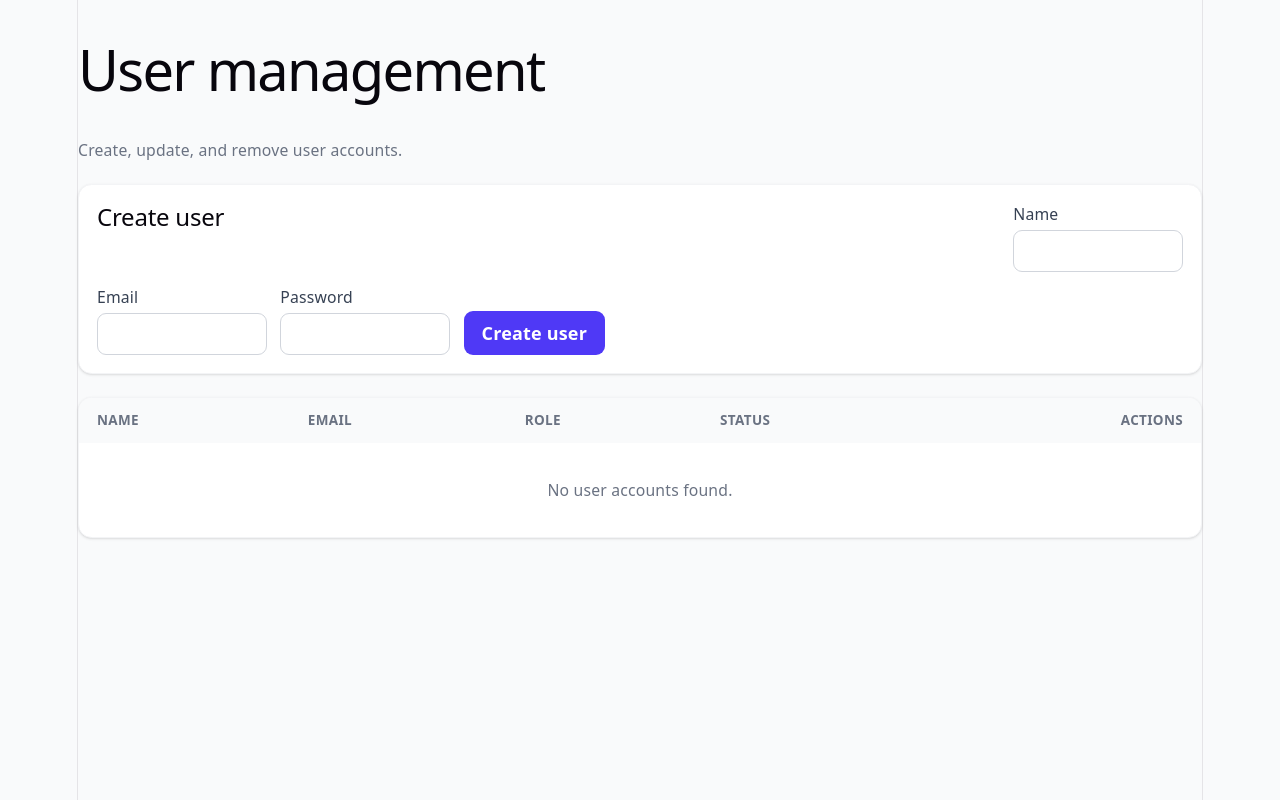
Test: UserManagement › creates users and reloads the table
Expected: the text "No user accounts found." is shown, [79, 443, 1201, 537]
Type "New Person" into the field labelled "Name" at (1098, 251), box [1013, 230, 1183, 272]
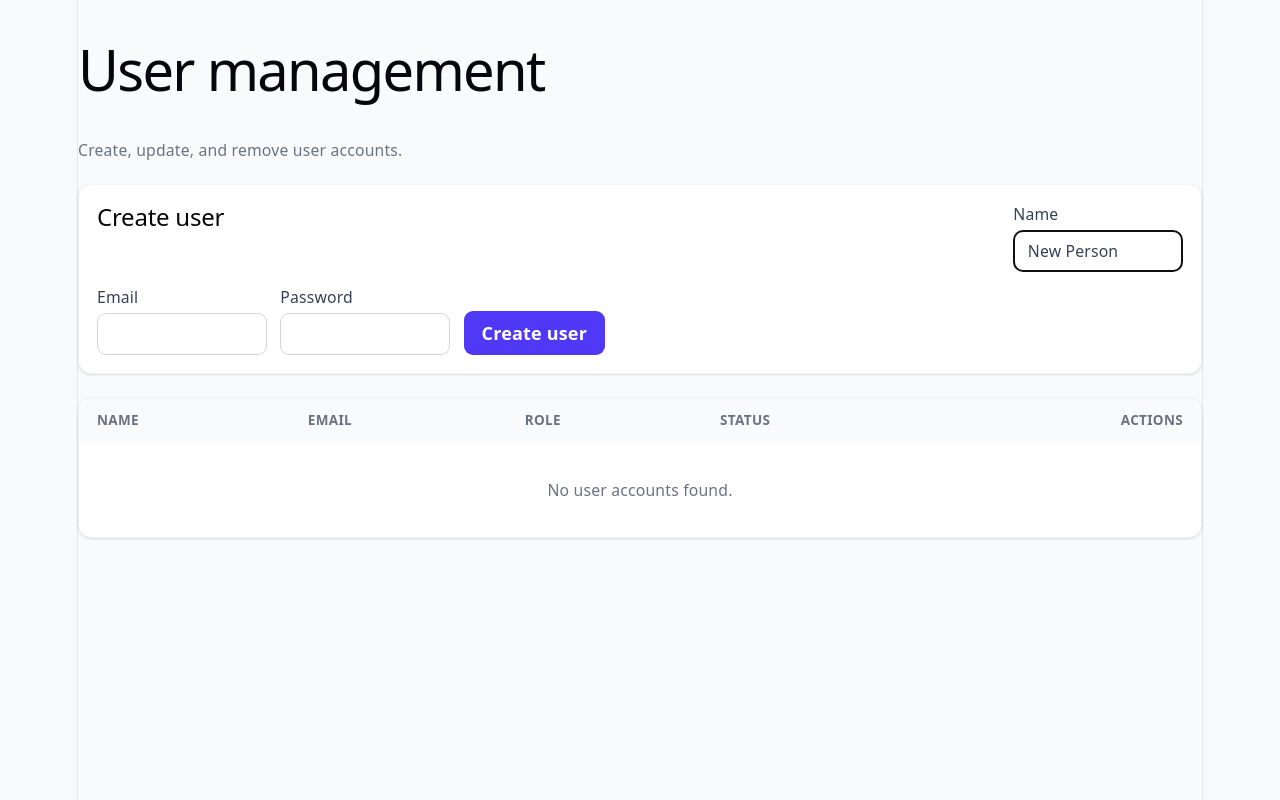
Type "new@example.com" into the field labelled "Email" at (182, 334), box [97, 313, 267, 355]
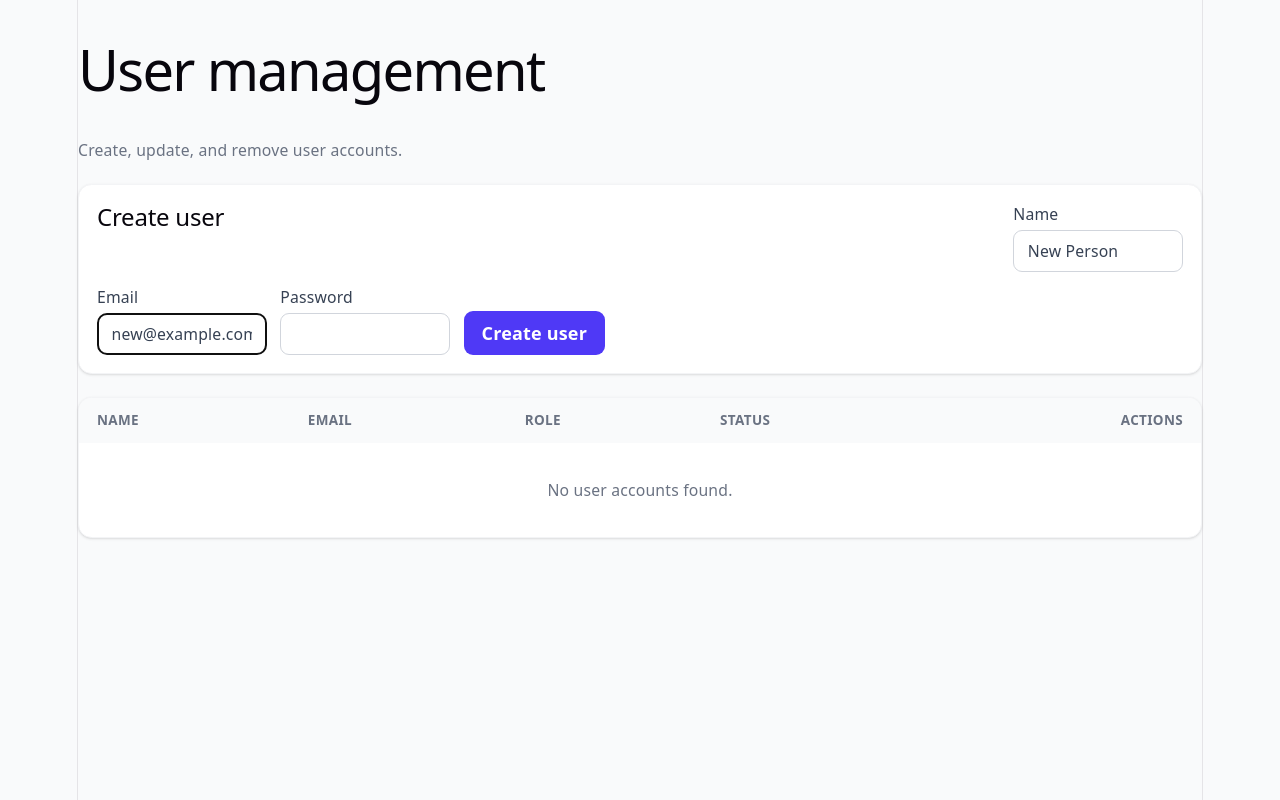
Type "password123" into the password field labelled "Password" at (365, 334), box [280, 313, 450, 355]
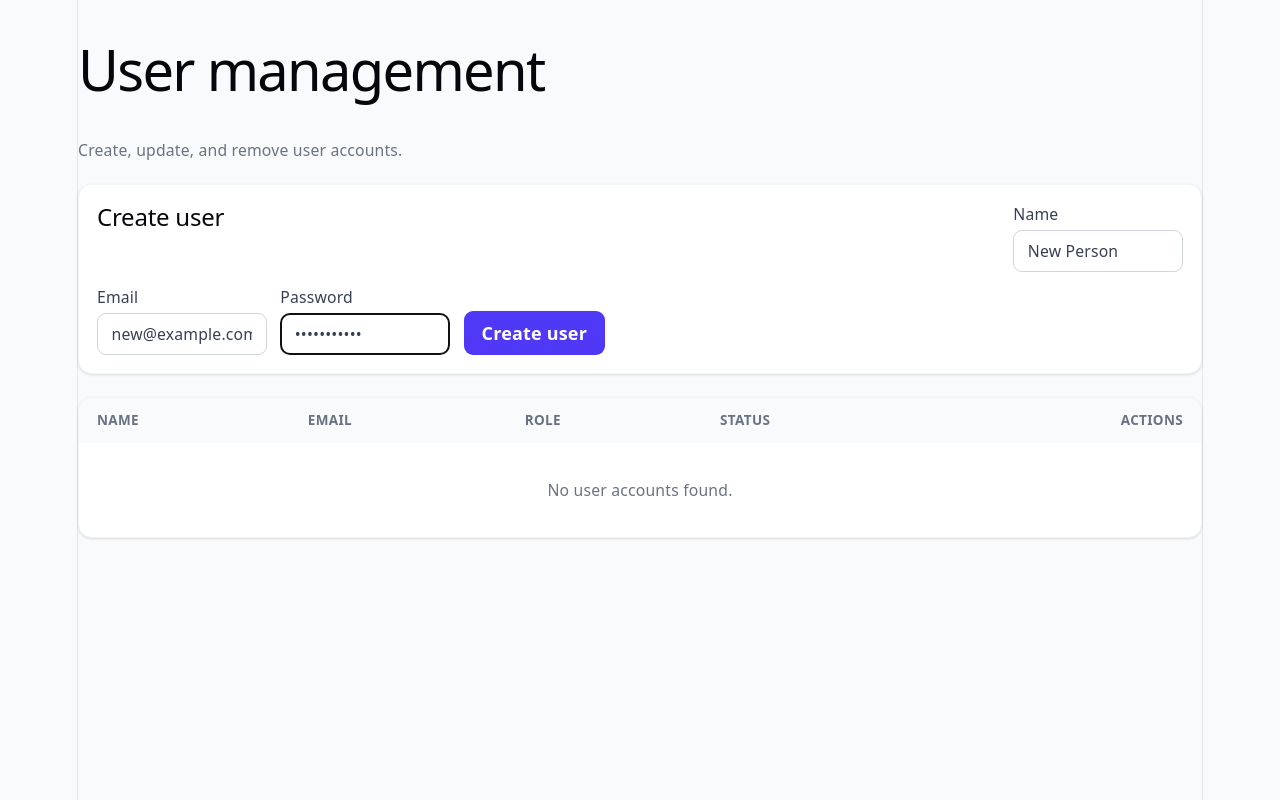
Click the button "Create user" at (534, 333), box [464, 311, 605, 355]
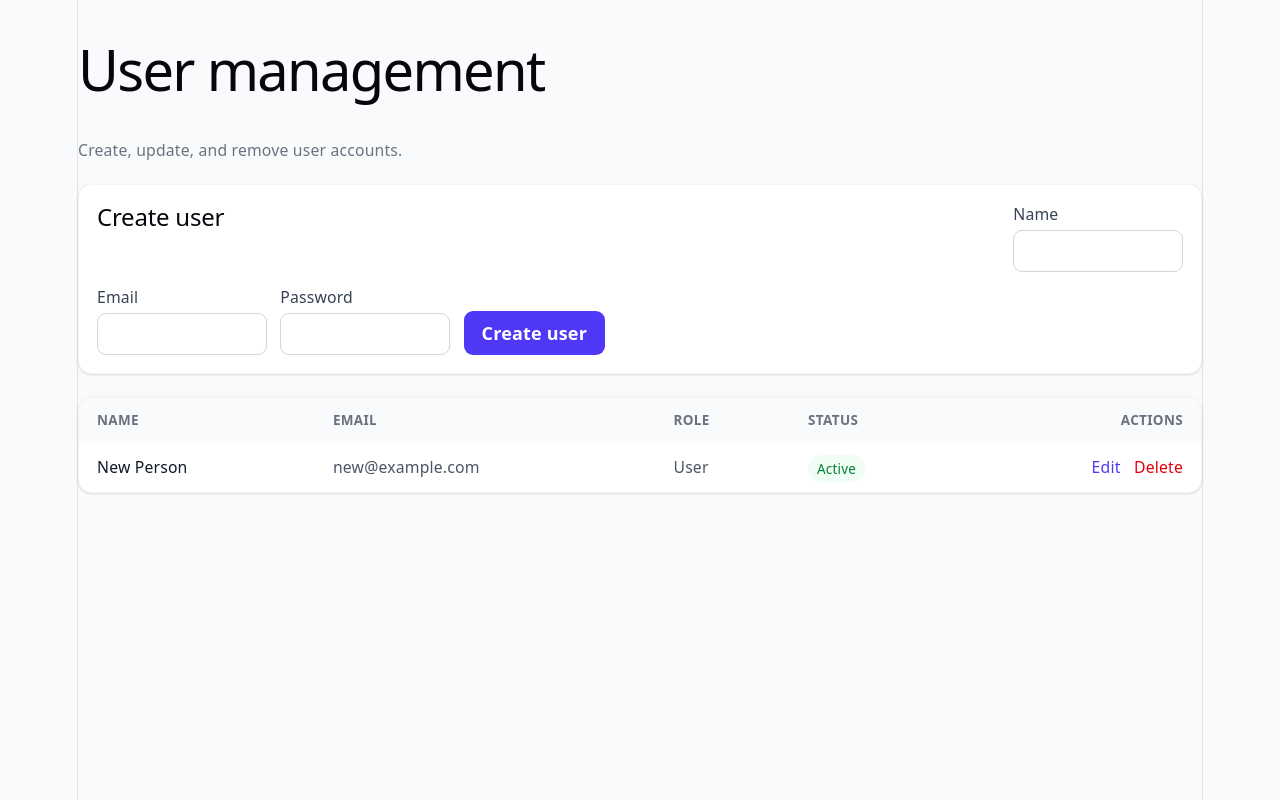
Result: the text "New Person" is shown at [79, 443, 315, 492]
Result: the text "Active" is shown at [808, 455, 865, 482]
